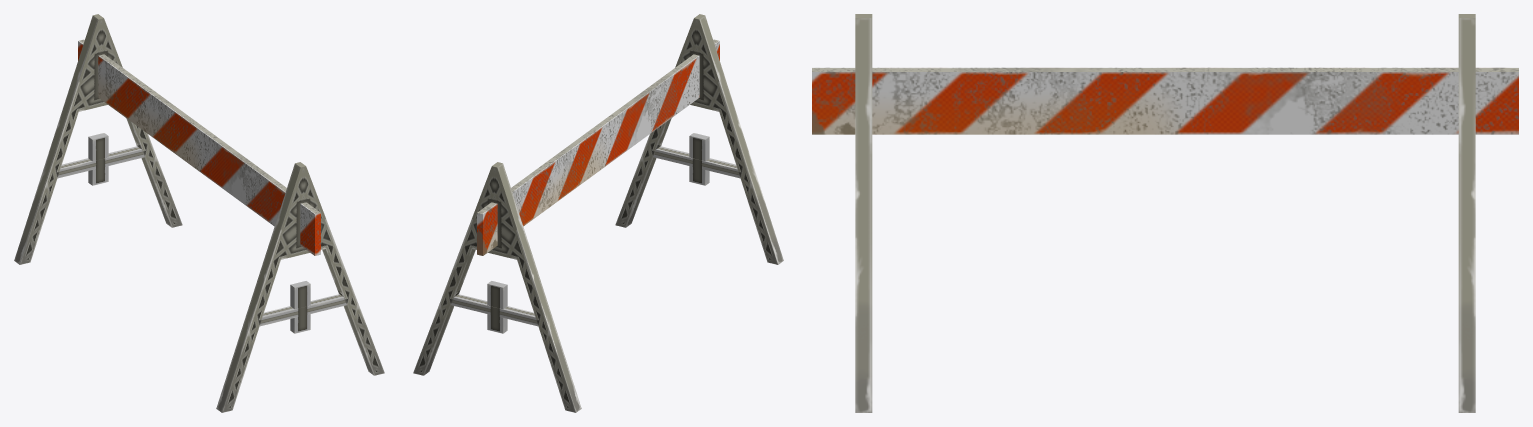
The model's file is trafficBarricade02.fbx.
The picture shows the model from 3 angles, left to right: view 1: azimuth 30°, elevation 25°; view 2: azimuth 150°, elevation 25°; view 3: azimuth 270°, elevation 25°; orthographic projection. The views are drawn at different scales.
Visible parts, largest first — view 1: trafficBarricade02; view 2: trafficBarricade02; view 3: trafficBarricade02.
Part boxes in pixels (x1,y1,x2,y2): trafficBarricade02: [14, 14, 384, 412]; trafficBarricade02: [413, 14, 783, 412]; trafficBarricade02: [812, 14, 1518, 412].
Bounding box in the file's own units: 81.41 × 108 × 205.
